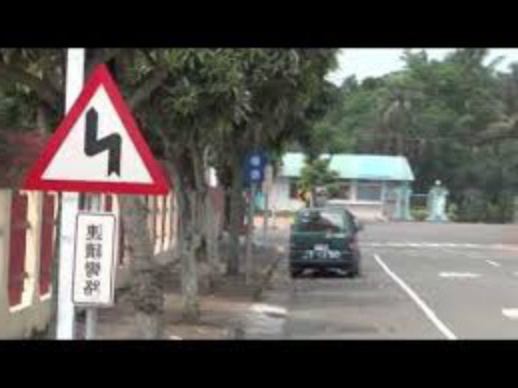Double_bend_left: (22, 60, 173, 196)
